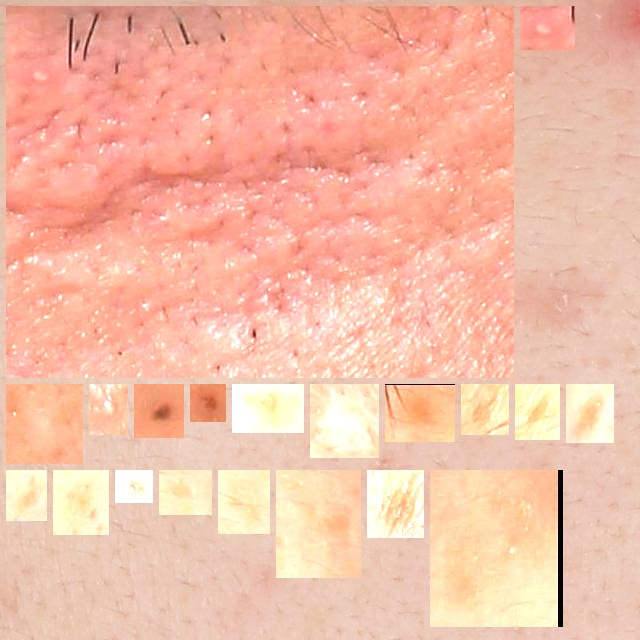hypertrophic_scar: (14, 14, 506, 370), (14, 392, 75, 456), (318, 392, 371, 450)
melasma: (438, 478, 555, 619), (284, 478, 353, 570), (393, 392, 447, 434), (375, 478, 416, 530), (61, 478, 101, 527), (240, 392, 296, 425), (226, 478, 262, 526), (574, 392, 606, 435), (523, 392, 552, 432), (469, 392, 501, 427), (167, 478, 204, 507), (14, 478, 39, 513), (123, 478, 145, 495)
nevus: (142, 392, 176, 430), (198, 392, 218, 414)
pustule: (528, 14, 567, 42), (97, 392, 120, 427)
